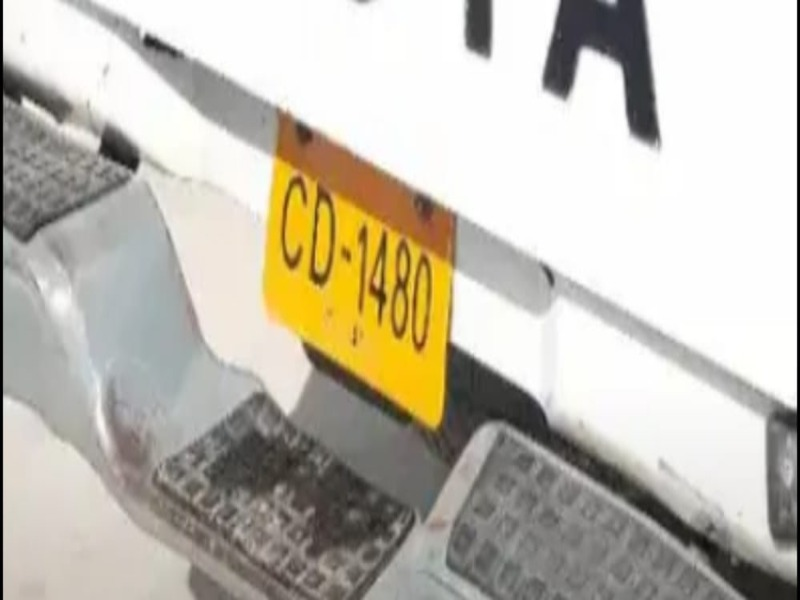License Plate: (272, 109, 458, 427)
